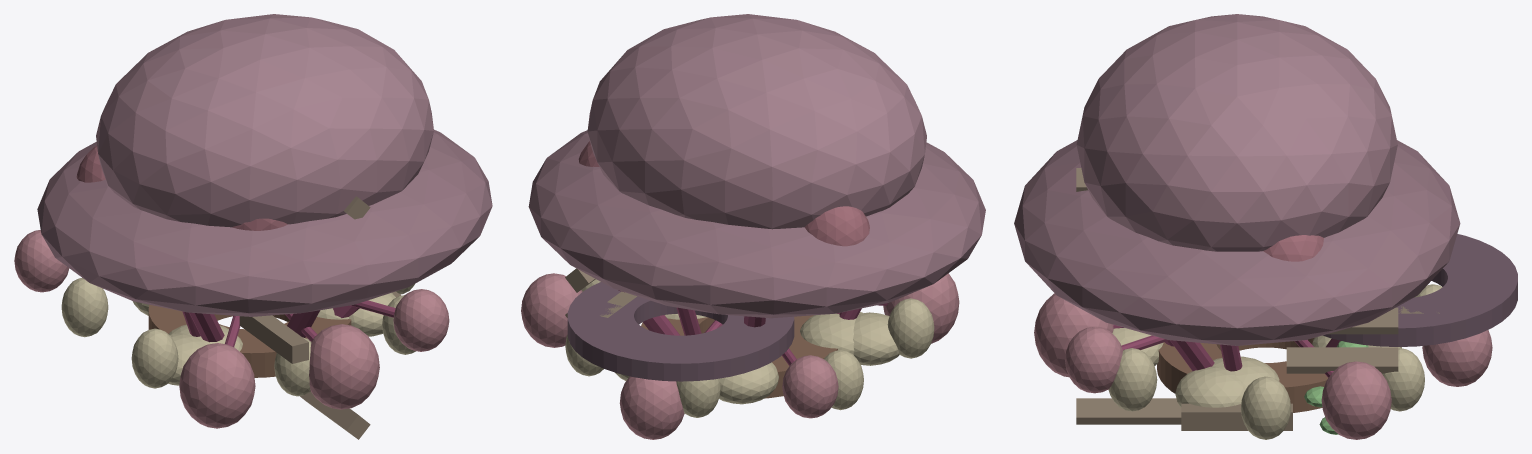
File: zglengo_spawning_nest.glb
3 renders of one model, left to right at view 1: azimuth 30°, elevation 25°; view 2: azimuth 150°, elevation 25°; view 3: azimuth 270°, elevation 25°, orthographic. The views are drawn at different scales.
Parts seen in each view (by area): view 1: nest_body, base_nest, bubo_2, bubo_5, bubo_3, nest_crater_lip, bubo_0, peripheral_egg_3, peripheral_egg_4, tendril_2, peripheral_egg_2, tendril_3 (+7 smaller); view 2: nest_body, base_nest, egg_pit_ring, bubo_4, bubo_1, bubo_0, peripheral_egg_3, enhanced_egg_pit_0, bubo_2, breathe_sac_0, enhanced_egg_pit_2, egg_pit_0 (+6 smaller); view 3: nest_body, base_nest, egg_pit_ring, bubo_1, nest_crater_lip, bubo_3, bubo_5, bubo_4, tendril_7, peripheral_egg_0, tendril_3, enhanced_egg_pit_1 (+8 smaller).
Part boxes in pixels (box(x1,y1,x2,y2)): nest_body: box(96, 14, 433, 227); base_nest: box(37, 129, 492, 316); bubo_2: box(179, 343, 255, 428); bubo_5: box(309, 324, 379, 409); bubo_3: box(393, 289, 449, 351); nest_crater_lip: box(148, 304, 351, 377); bubo_0: box(14, 230, 69, 292); peripheral_egg_3: box(131, 328, 178, 388); peripheral_egg_4: box(61, 278, 108, 337); tendril_2: box(239, 315, 308, 363); peripheral_egg_2: box(274, 337, 311, 396); tendril_3: box(299, 391, 370, 439); nest_body: box(587, 14, 926, 229); base_nest: box(528, 130, 985, 318); egg_pit_ring: box(567, 282, 794, 381); bubo_4: box(619, 376, 684, 439); bubo_1: box(521, 273, 582, 347); bubo_0: box(782, 355, 838, 418); peripheral_egg_3: box(887, 298, 934, 358); enhanced_egg_pit_0: box(853, 312, 899, 365); bubo_2: box(883, 273, 959, 343); breathe_sac_0: box(804, 206, 869, 246); enhanced_egg_pit_2: box(719, 362, 778, 404); egg_pit_0: box(800, 312, 863, 354); nest_body: box(1076, 14, 1397, 251); base_nest: box(1014, 140, 1460, 345); egg_pit_ring: box(1323, 234, 1517, 346); bubo_1: box(1321, 361, 1391, 439); nest_crater_lip: box(1157, 337, 1327, 412); bubo_3: box(1065, 327, 1122, 393); bubo_5: box(1034, 293, 1113, 377); bubo_4: box(1422, 330, 1492, 386); tendril_7: box(1286, 347, 1398, 373); peripheral_egg_0: box(1241, 376, 1290, 439); tendril_3: box(1076, 398, 1181, 424); enhanced_egg_pit_1: box(1175, 366, 1245, 407).
Size of the model in its own units: 2.4 by 2.01 by 2.44.
